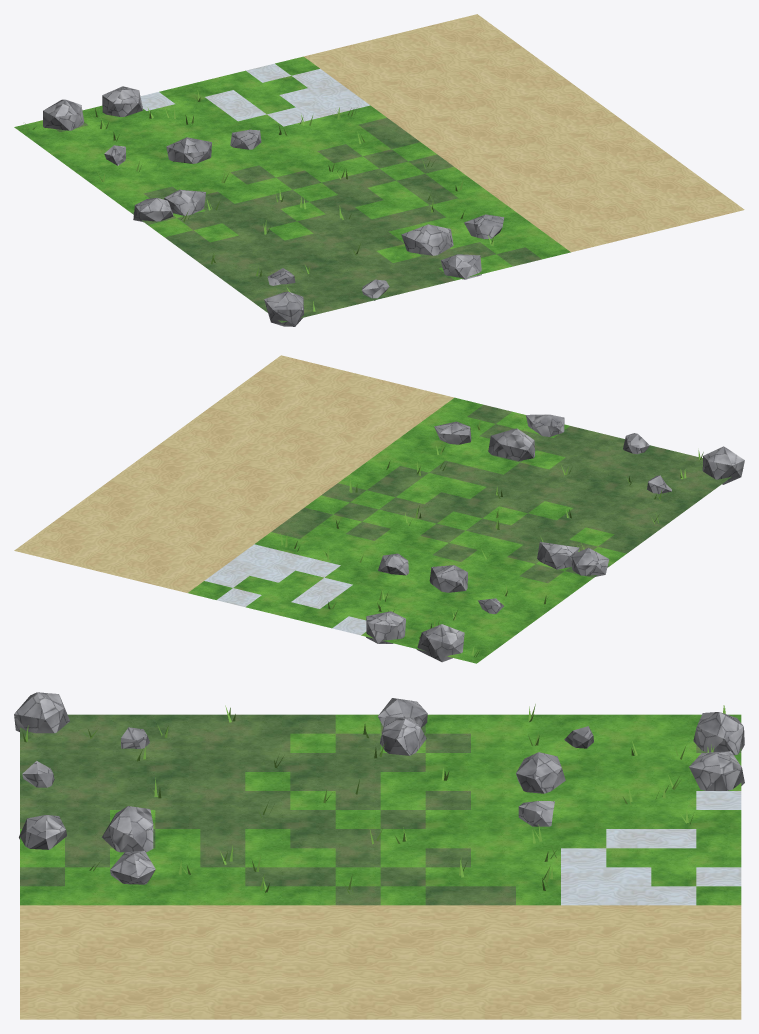
The model's file is chunk_11_2.glb.
3 views of the same model, one above another, from view 1: azimuth 30°, elevation 25°; view 2: azimuth 150°, elevation 25°; view 3: azimuth 270°, elevation 25° (orthographic). The views are drawn at different scales.
Visible parts, largest first — view 1: chunk_11_2; view 2: chunk_11_2; view 3: chunk_11_2.
Boxes of the visible parts, x1,y1,x2,y2 form: chunk_11_2: [14, 14, 744, 326]; chunk_11_2: [14, 355, 744, 663]; chunk_11_2: [14, 692, 744, 1019].
Bounding box in the file's own units: 16.17 × 1.22 × 16.21.
6 materials, 5 textured.
